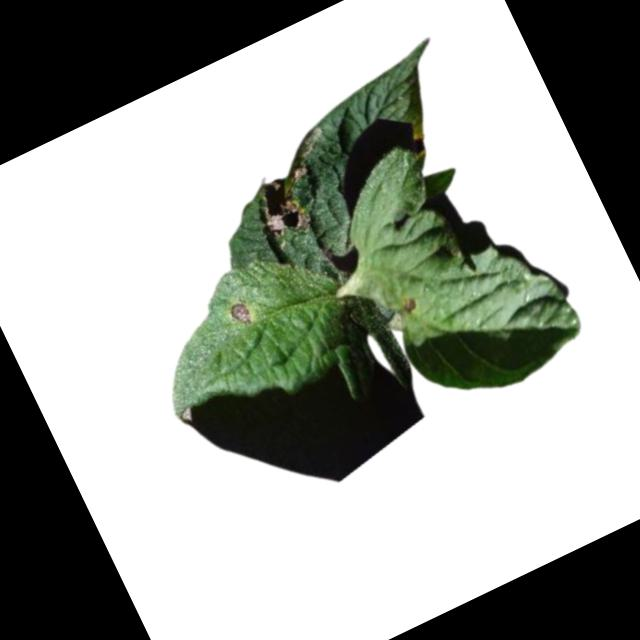Early_blight: (249, 168, 316, 243), (228, 299, 252, 327), (399, 293, 418, 313)
